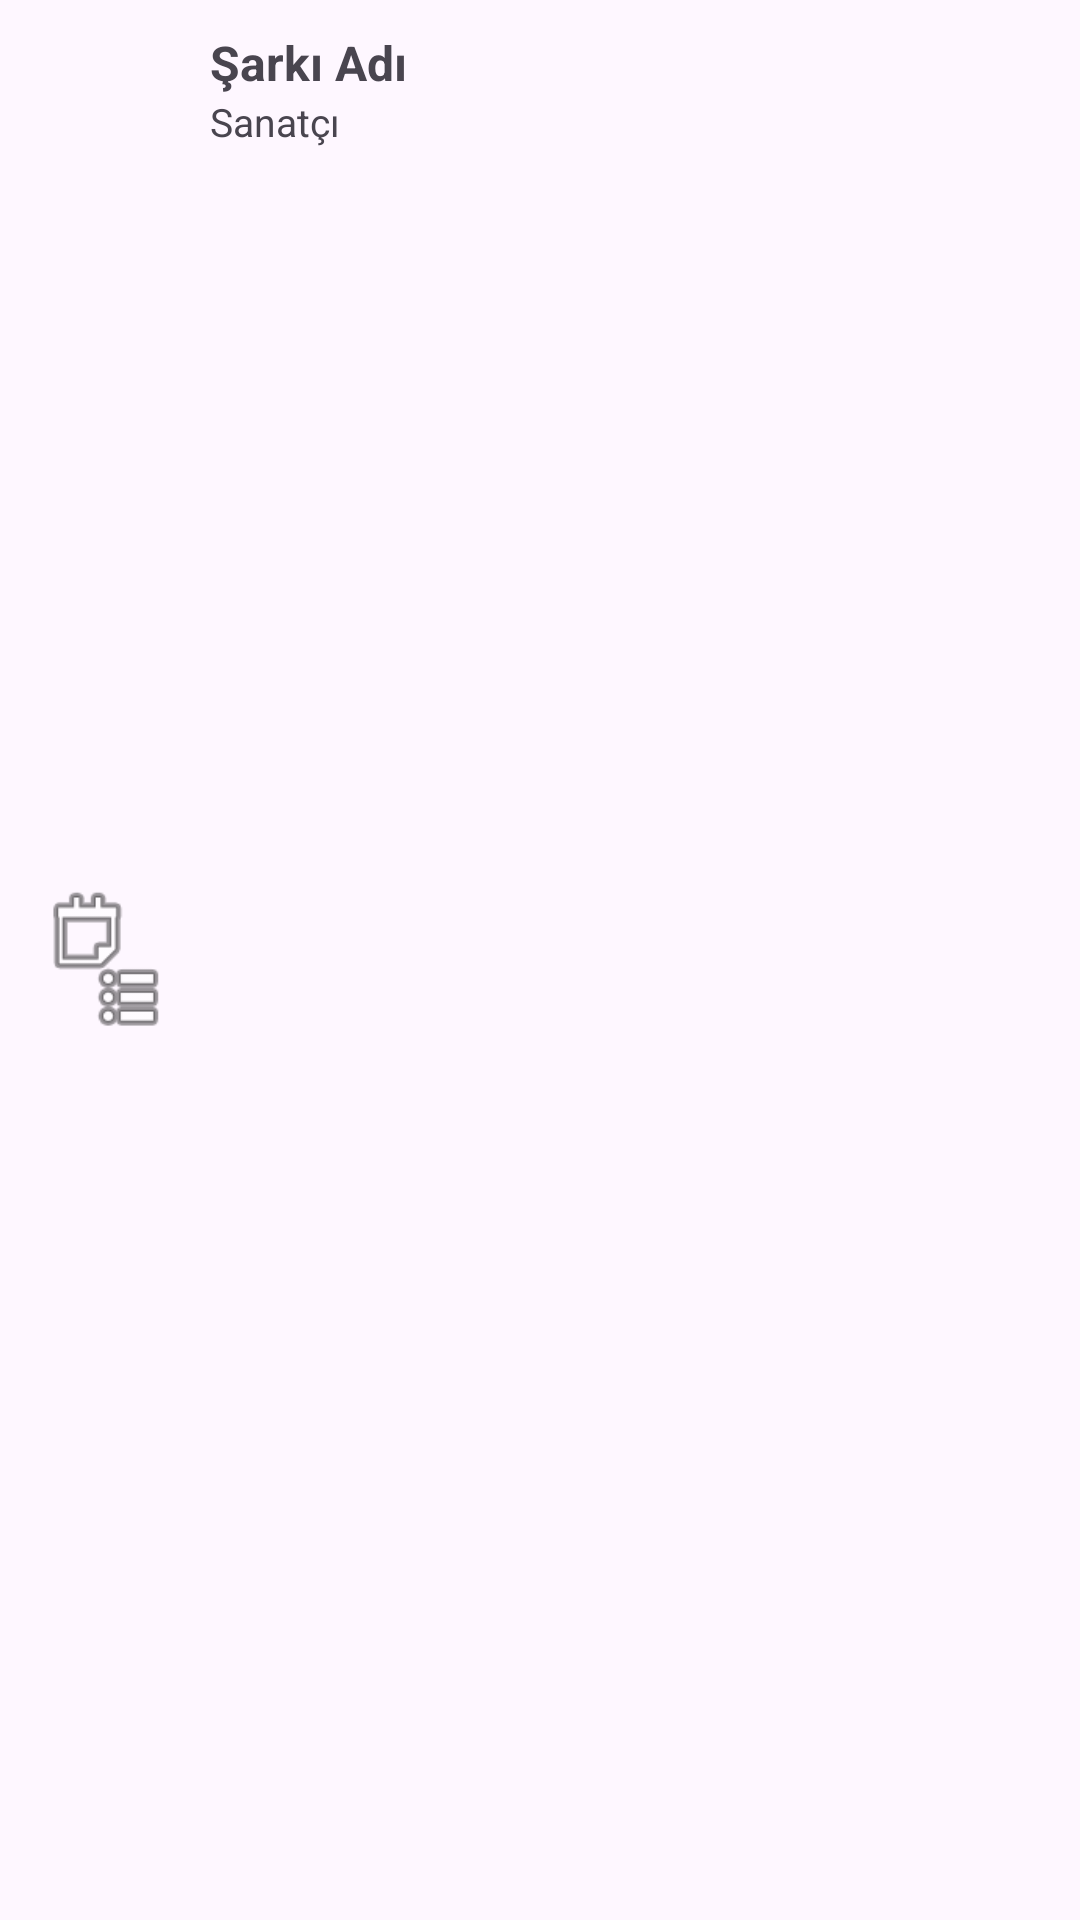

Where icons sit on this 1080px x 1920px app screen, as (x1, y1, x2, y2):
agenda: (53, 892, 159, 1026)
